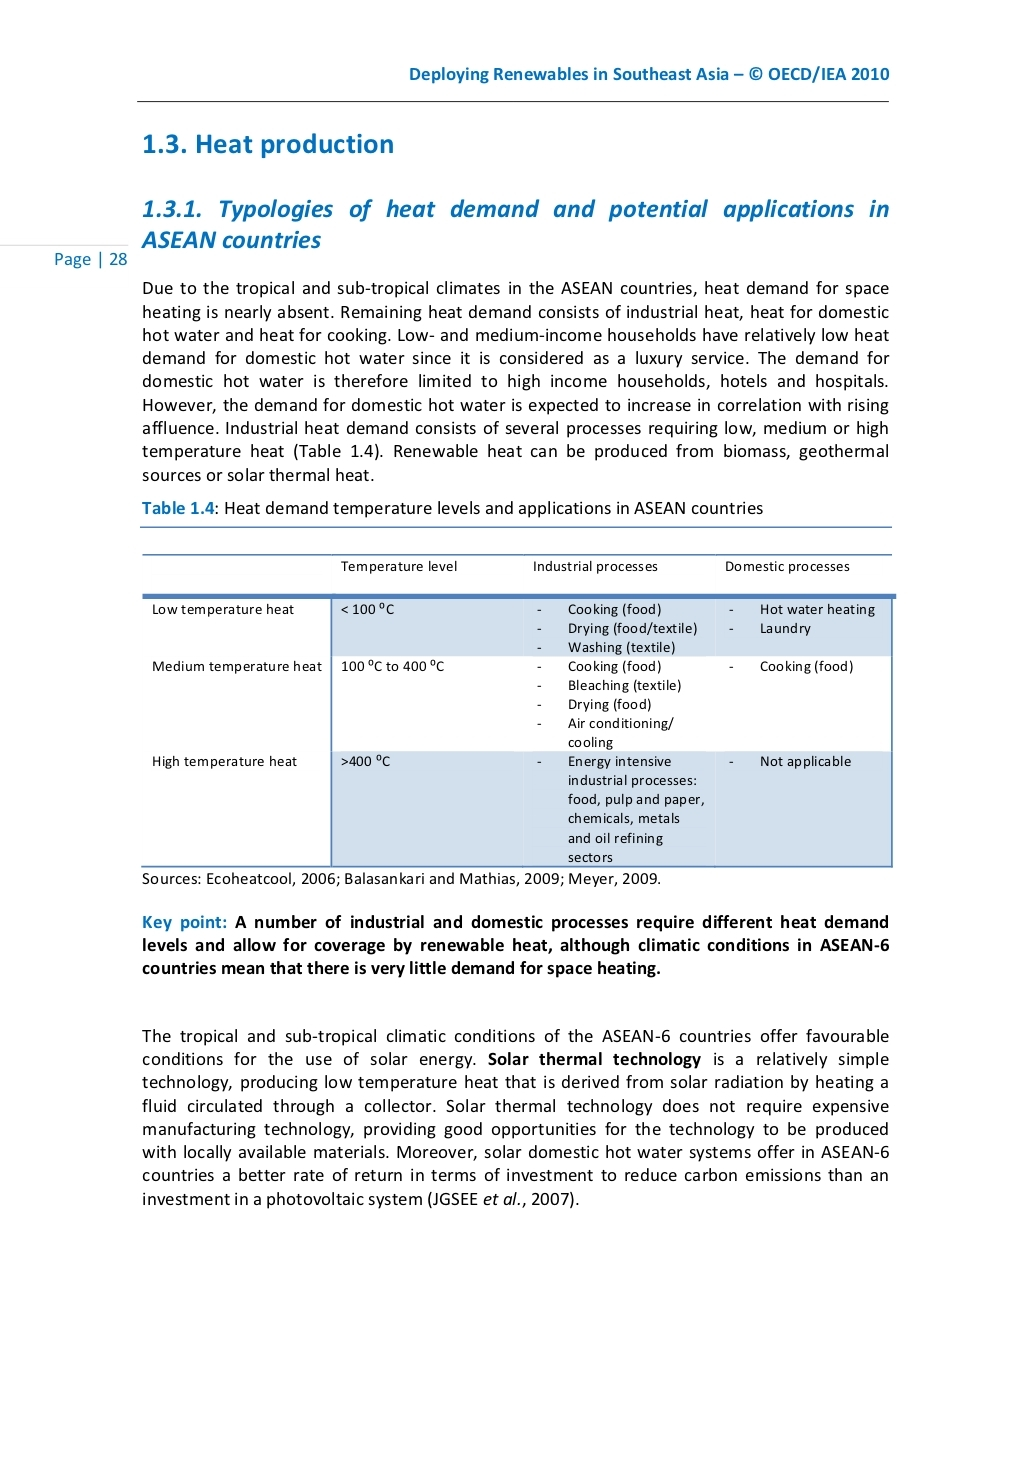Table: (141, 592, 896, 868)
